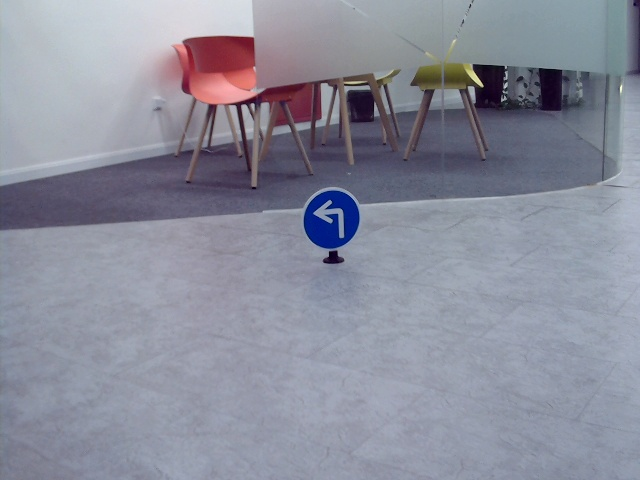turn_left: (312, 197, 346, 235)
